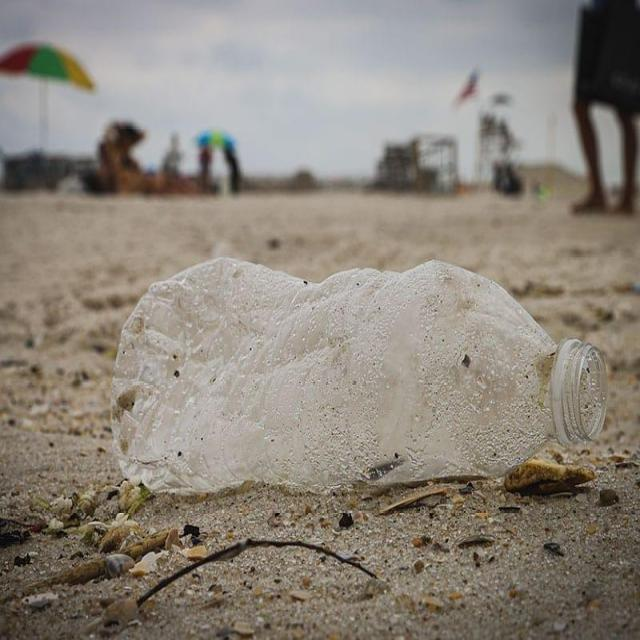bottle: (85, 212, 617, 548)
